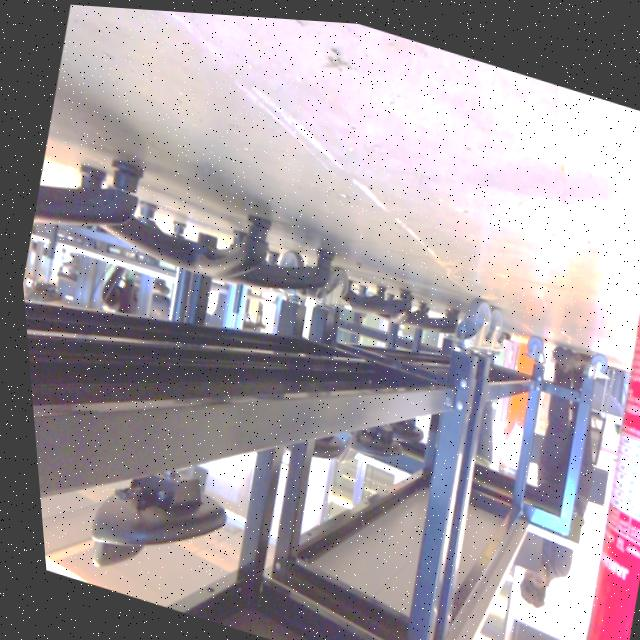redpringles: (510, 108, 640, 640)
